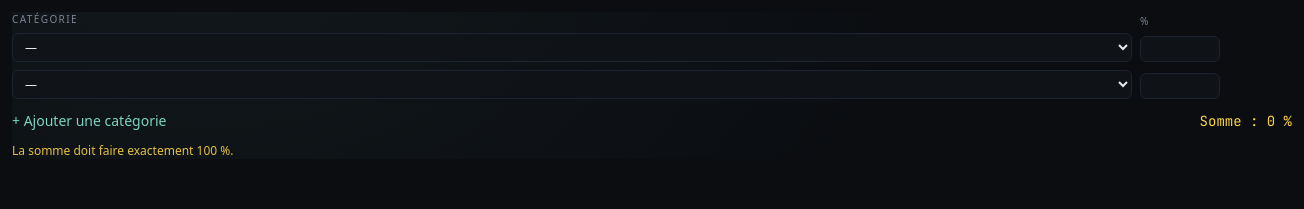
Scenario: RuleSplitEditor › adds a row when clicking "Ajouter une catégorie"
The width and height of the screenshot is (1304, 209).
Expected: the number of number fields is 2, x1=1140 y1=36 x2=1220 y2=62; x1=1140 y1=73 x2=1220 y2=99
What coordinates should you click on to do the following:
click the button "+ Ajouter une catégorie"
I would click on:
 (89, 121)
Its box is x1=12 y1=111 x2=166 y2=131.
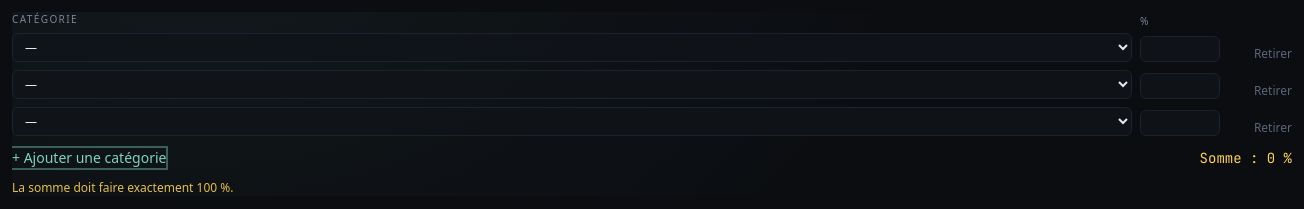
Result: the number of number fields is 3 at x1=1140 y1=36 x2=1220 y2=62; x1=1140 y1=73 x2=1220 y2=99; x1=1140 y1=110 x2=1220 y2=136
